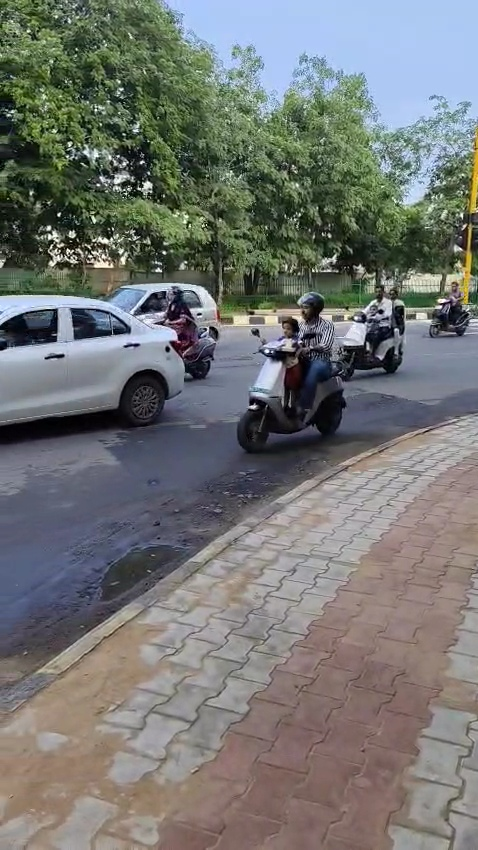BikeWithRider: (229, 286, 355, 459), (140, 282, 220, 384), (333, 279, 411, 380), (424, 277, 475, 340)
Helmet: (294, 288, 327, 322), (163, 284, 183, 306), (372, 283, 386, 300), (366, 303, 380, 319)
NoHelmet: (276, 315, 301, 340), (387, 285, 401, 304), (447, 279, 461, 293), (388, 288, 399, 300), (451, 281, 460, 292)
